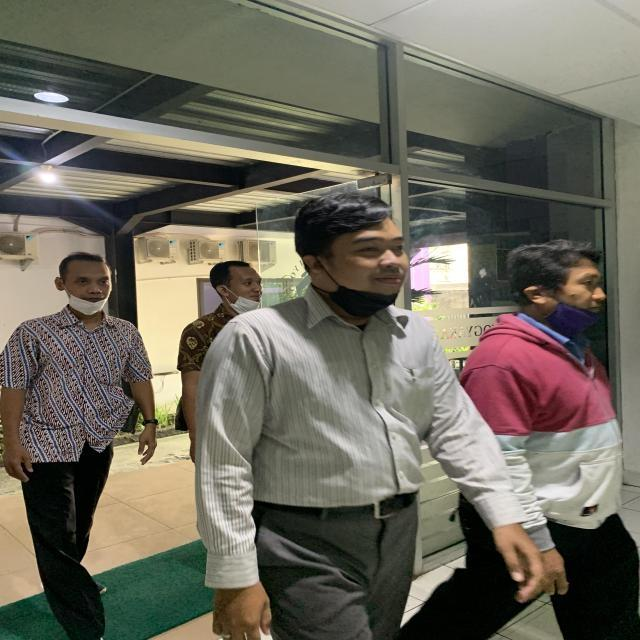hairnet: (290, 195, 425, 304), (516, 240, 612, 338), (62, 252, 116, 310), (219, 260, 276, 304)
